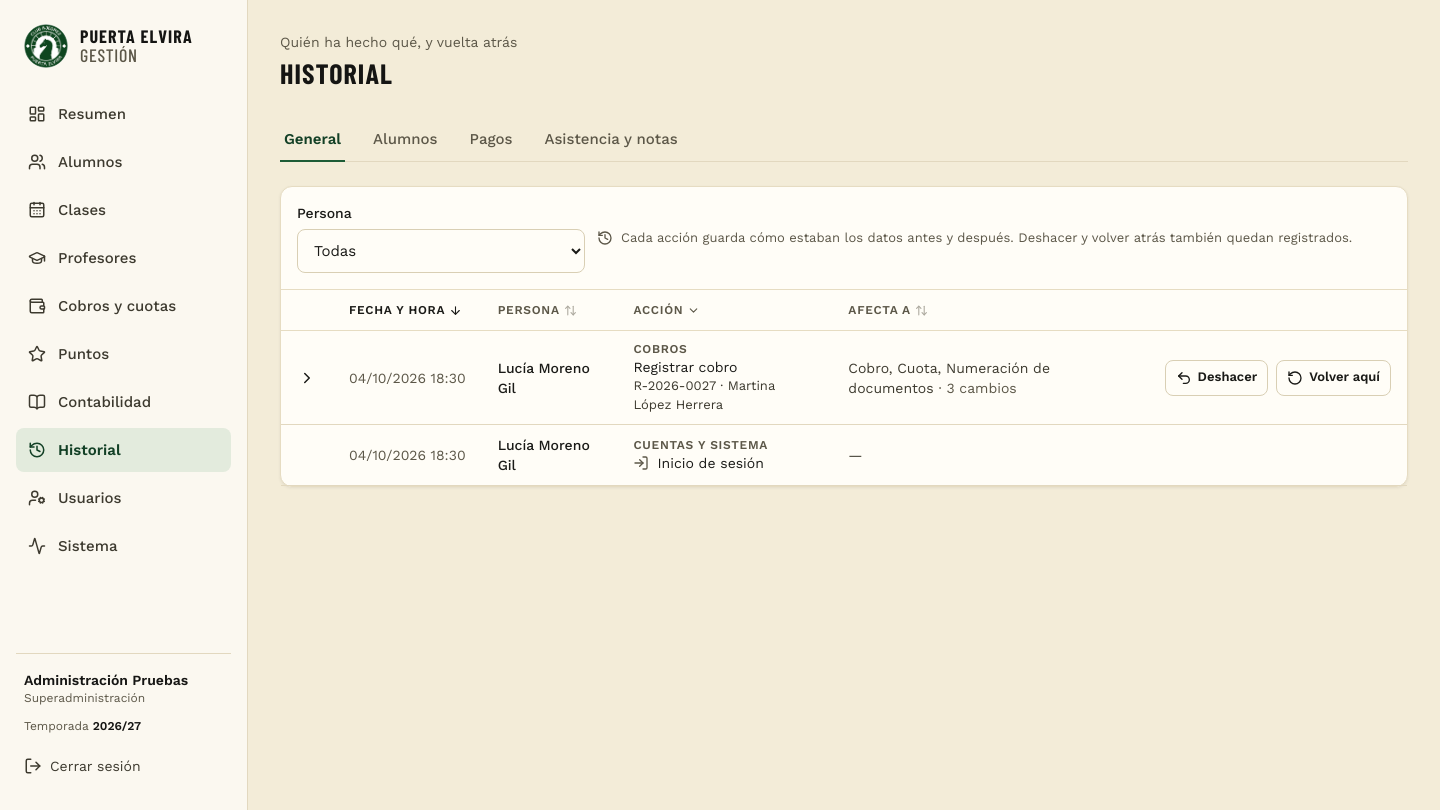
Historial › keeps the field by field detail for actions that are not a payment
Click the button named "Ver detalle de Registrar cobro" at [307, 378], box [289,360,325,396]
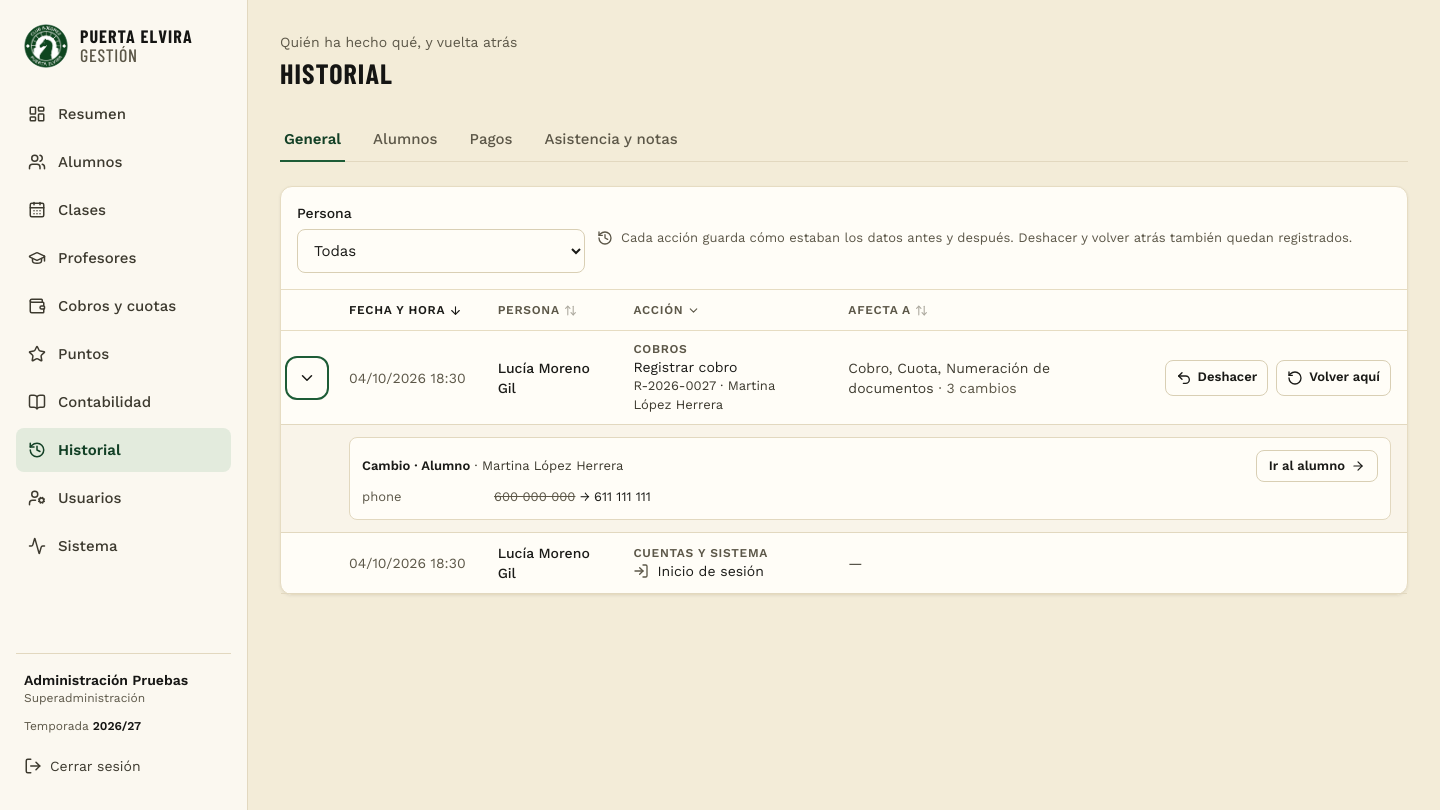
Check: the text "Cambio · Alumno" is shown, box [362,458,470,473]
Check: the text "611 111 111" is shown, box [594,489,651,504]
